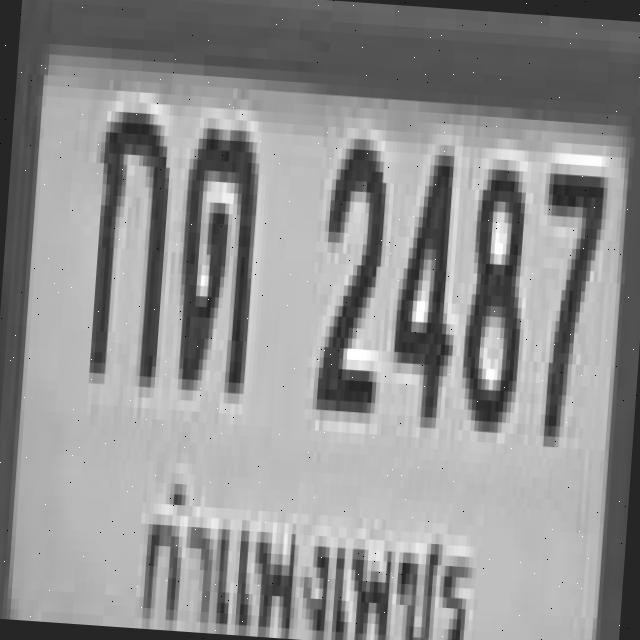10GorGai: (84, 100, 170, 377)
2: (313, 121, 386, 397)
30TorTao: (170, 116, 258, 383)
4: (386, 142, 458, 418)
7: (528, 162, 605, 438)
8: (454, 157, 528, 423)
KamphaengPhet: (121, 459, 481, 640)
